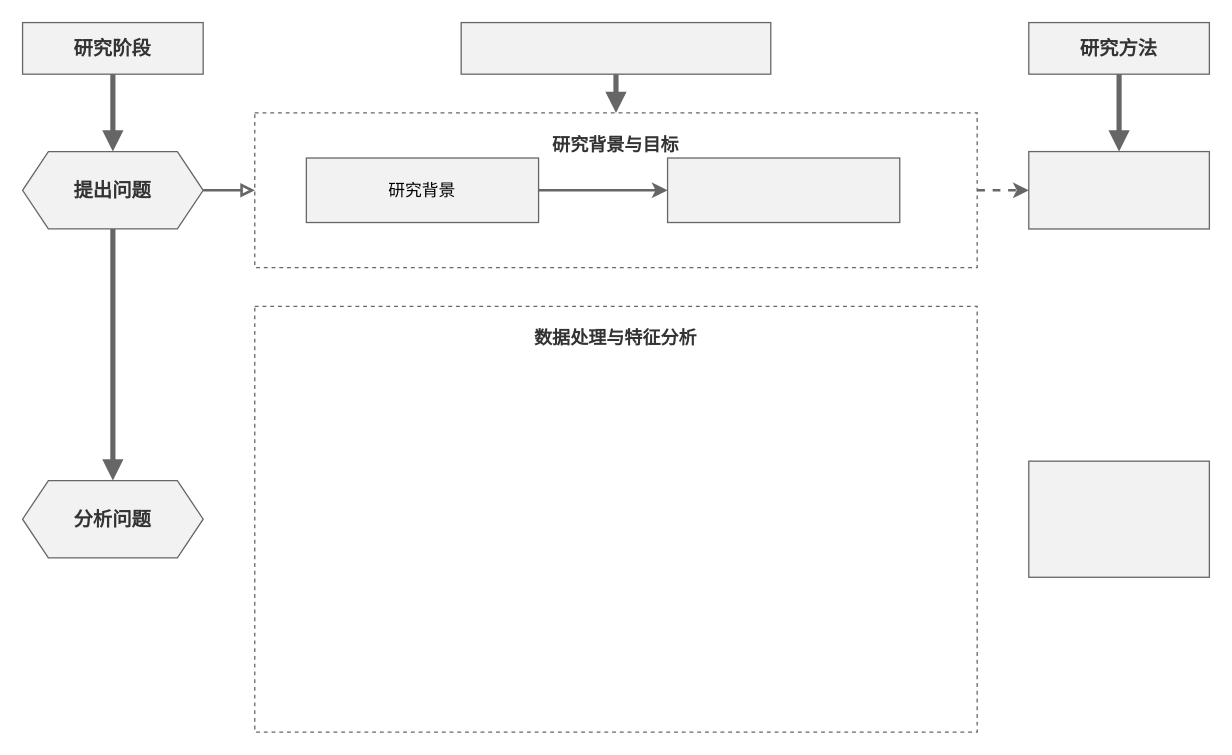
Some shapes in this 1232 by 755 pixel diagram are drawn without their labels. The centre of each missing label's shape, as x and y in pixels:
文献综述法: (1118,189)
相关分析 回归分析 R²检验: (1118,518)
研究内容: (615,47)
研究目标: (783,190)
